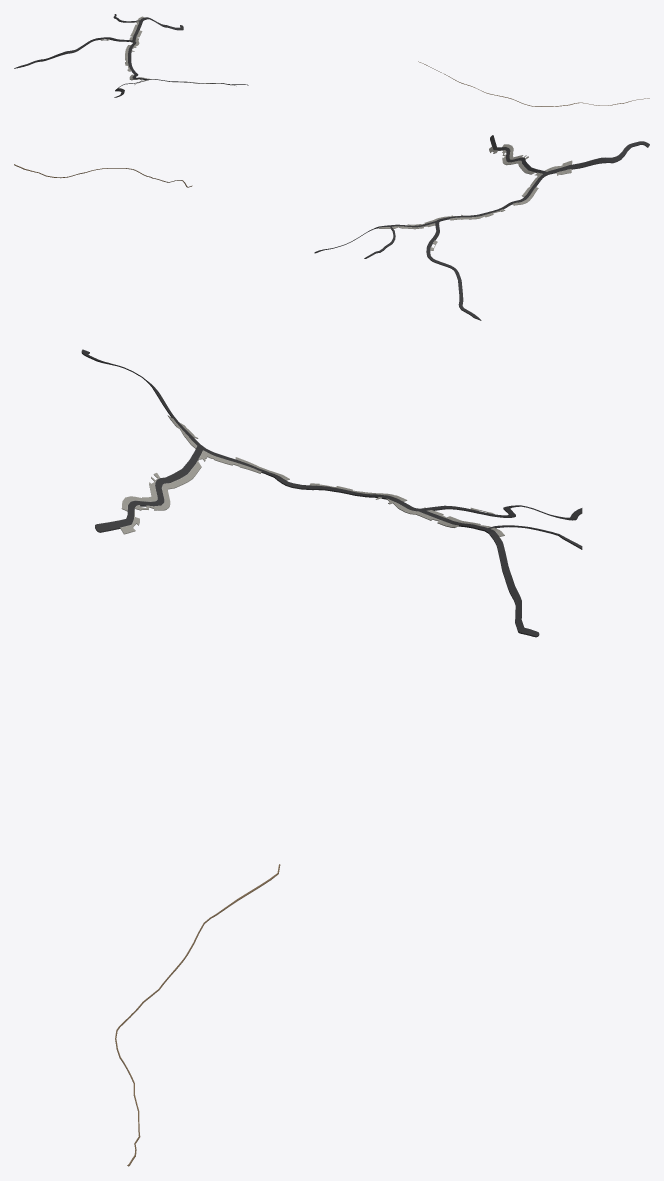
3 renders of one model, top to bottom at view 1: azimuth 30°, elevation 25°; view 2: azimuth 150°, elevation 25°; view 3: azimuth 270°, elevation 25°, orthographic. The views are drawn at different scales.
Size of the model in its own units: 1173 by 297 by 467.
